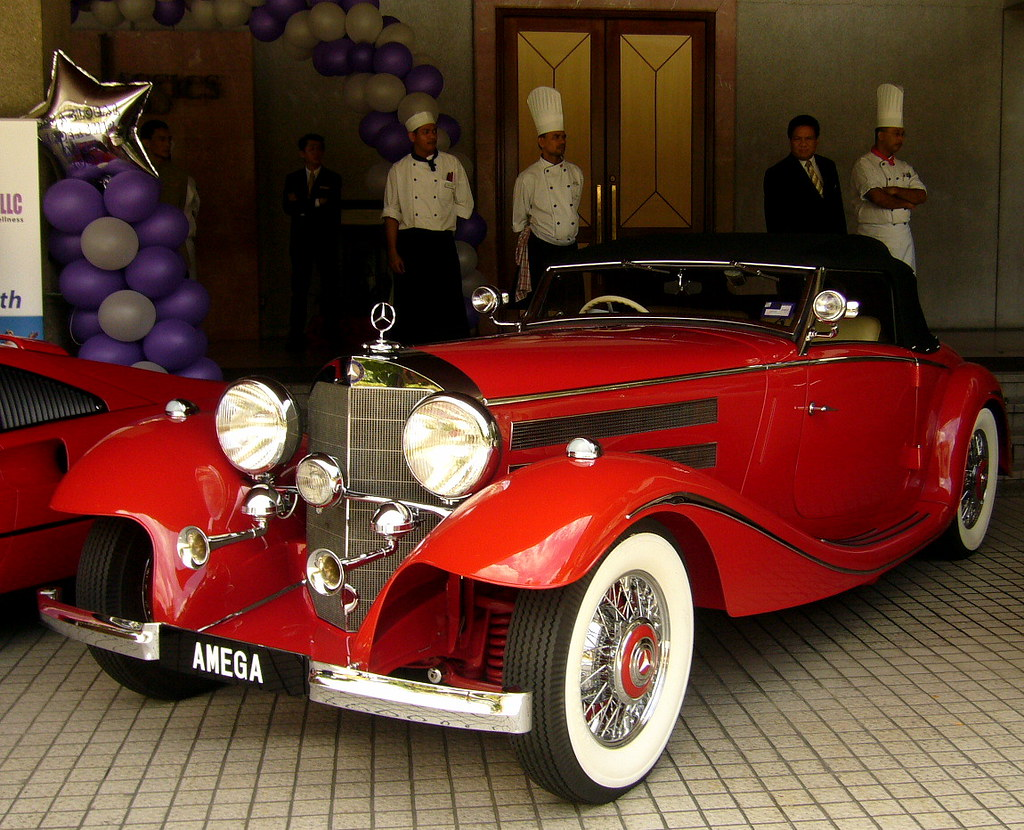car: (65, 229, 1017, 775)
